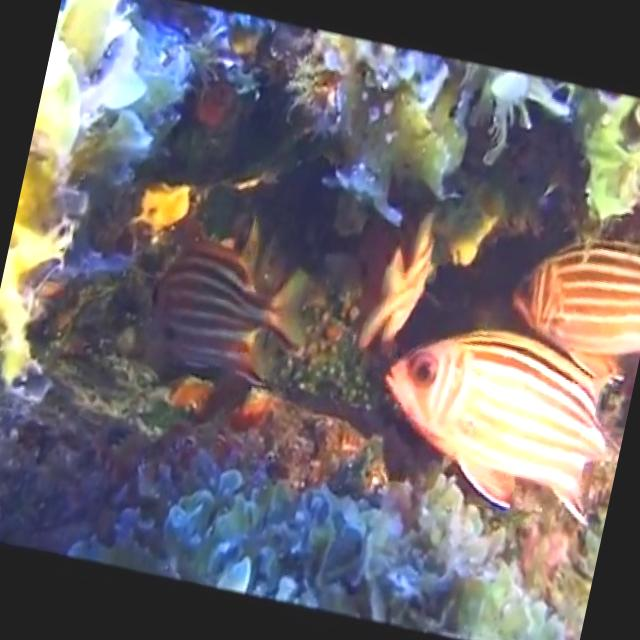Asker Baligi: (360, 302, 630, 532)
